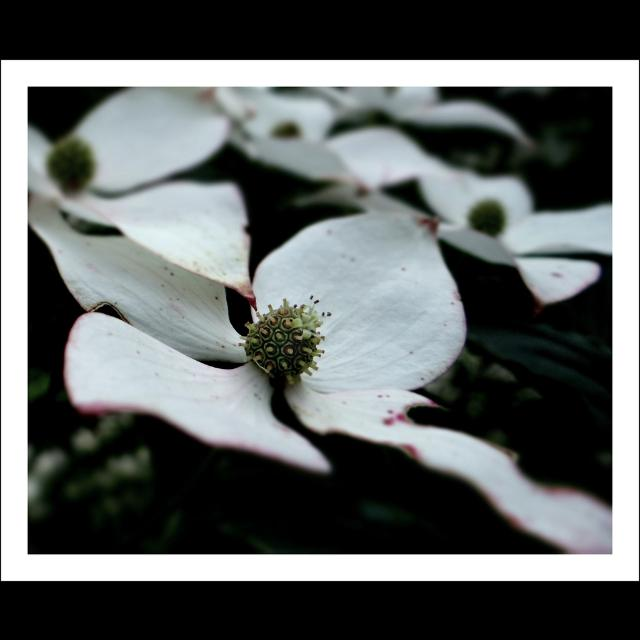Flower: (45, 135, 552, 521), (28, 87, 258, 306), (301, 165, 614, 307), (217, 86, 528, 184)
